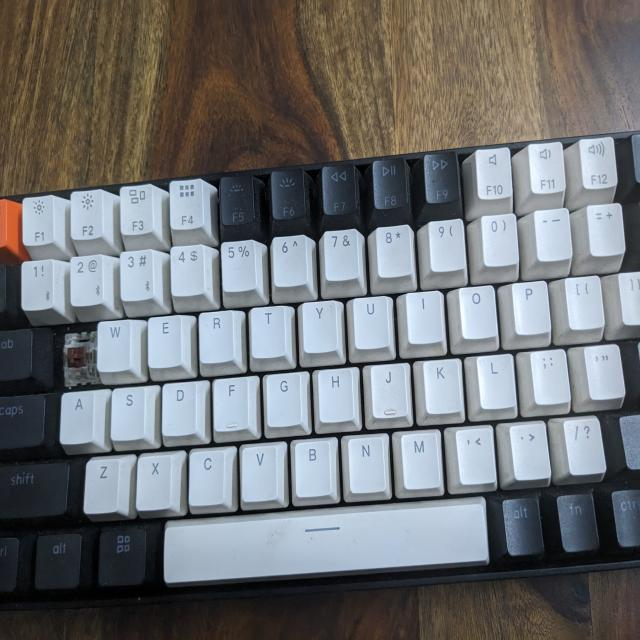C: (60, 326, 95, 385)
